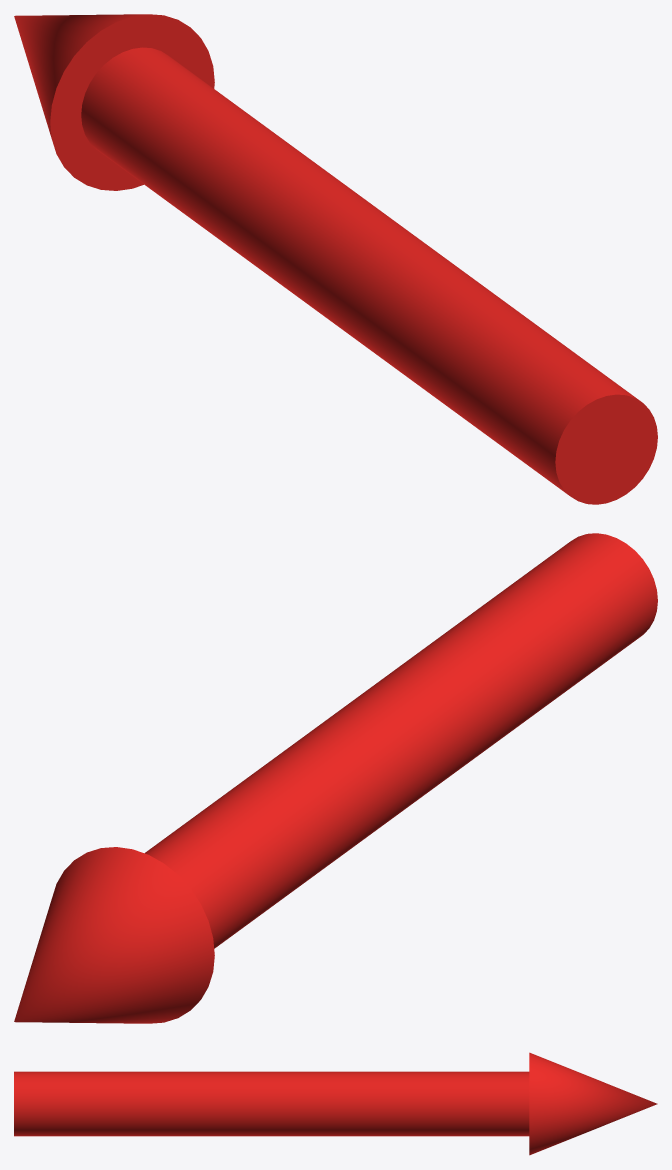
Rendered from Arrow.glb.
The picture shows the model from 3 angles, top to bottom: view 1: azimuth 30°, elevation 25°; view 2: azimuth 150°, elevation 25°; view 3: azimuth 270°, elevation 25°; orthographic projection. The views are drawn at different scales.
Visible parts, largest first — view 1: Cylinder; view 2: Cylinder; view 3: Cylinder.
Boxes of the visible parts, box(x1,y1,x2,y2) form: Cylinder: box(14, 14, 657, 504); Cylinder: box(14, 533, 657, 1023); Cylinder: box(14, 1052, 657, 1155).
Size of the model in its own units: 1.6 by 1.6 by 10.
